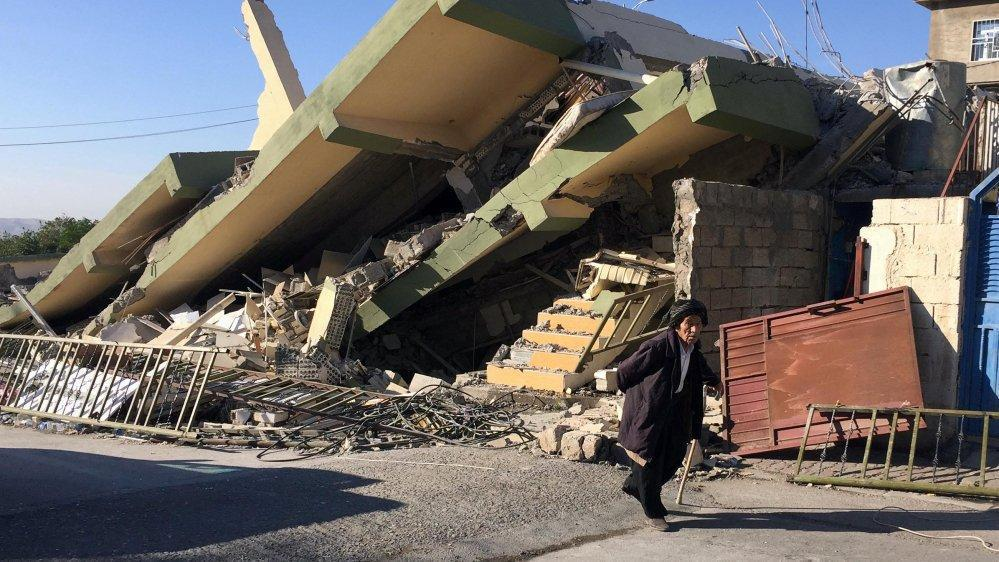destroyed: (79, 23, 927, 459)
